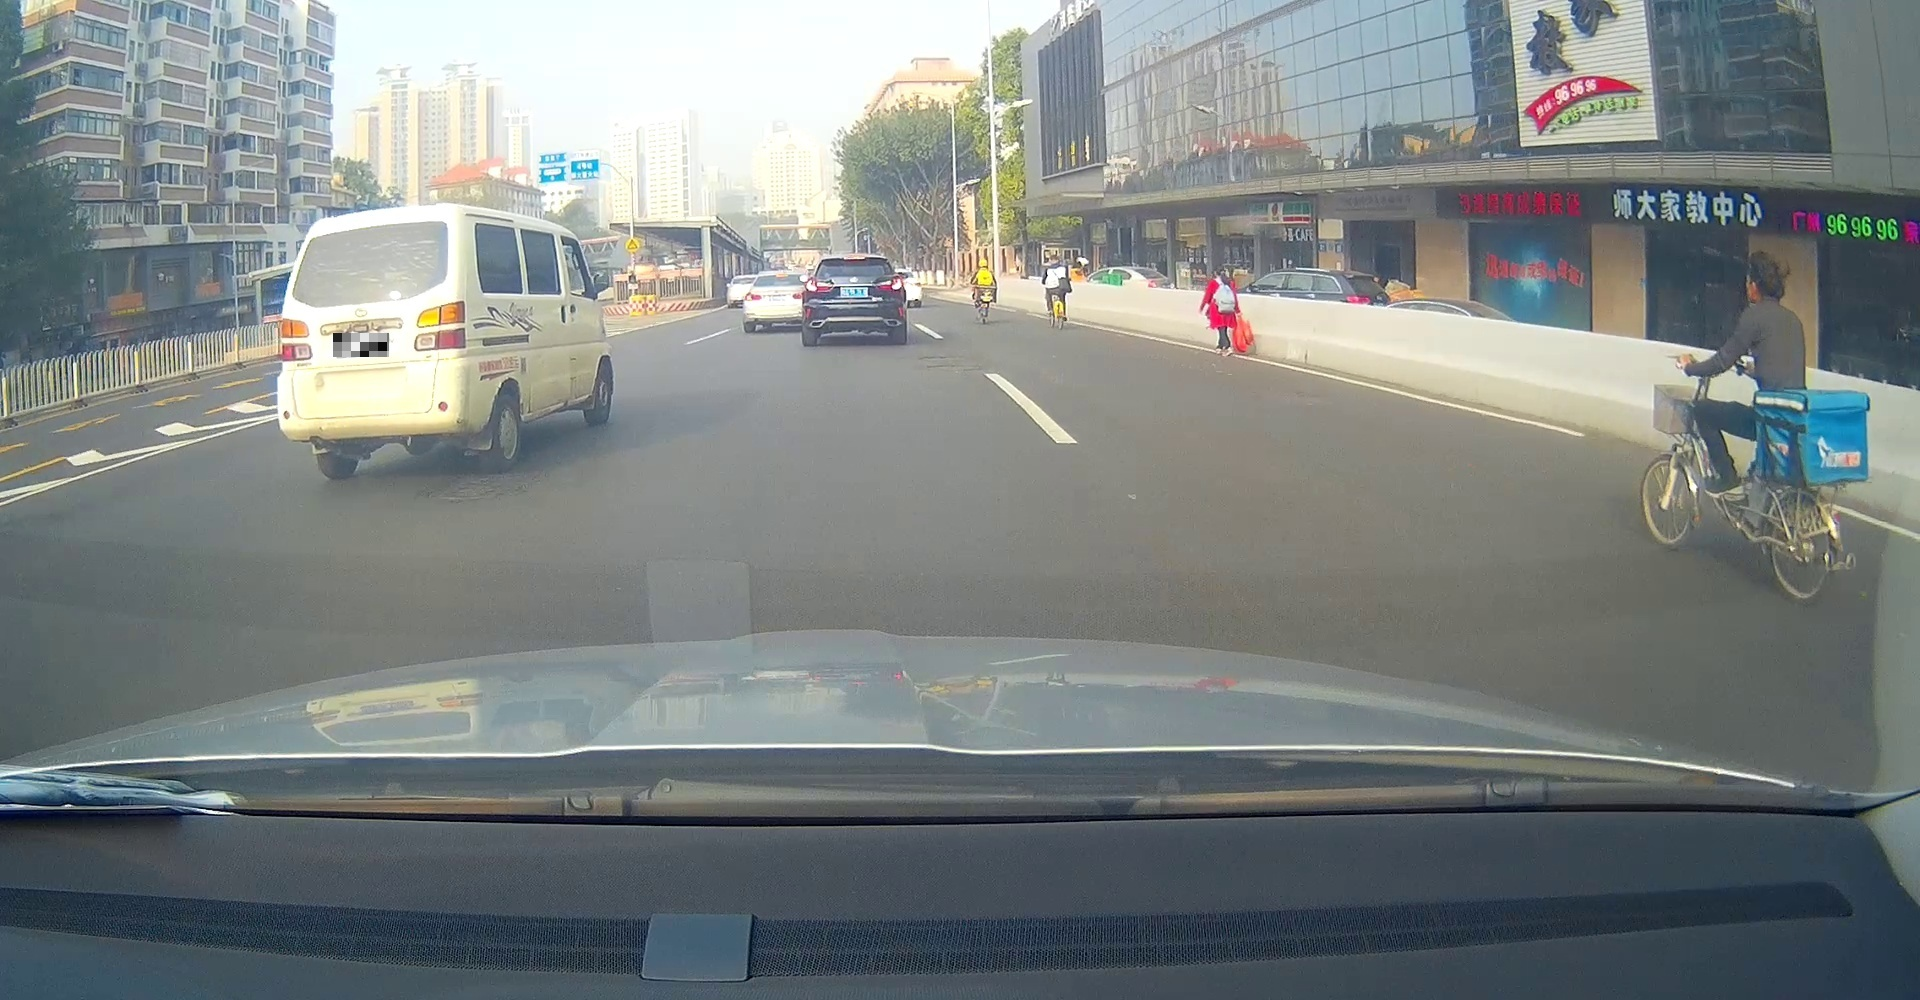L_light: (278, 316, 312, 360), (804, 277, 833, 293)
R_light: (413, 299, 466, 352), (875, 275, 904, 291)
T_light: (356, 227, 383, 234), (843, 256, 866, 260)
day-brake: (800, 253, 907, 345)
day-no: (276, 201, 476, 478)
plate_1: (333, 332, 389, 357)
